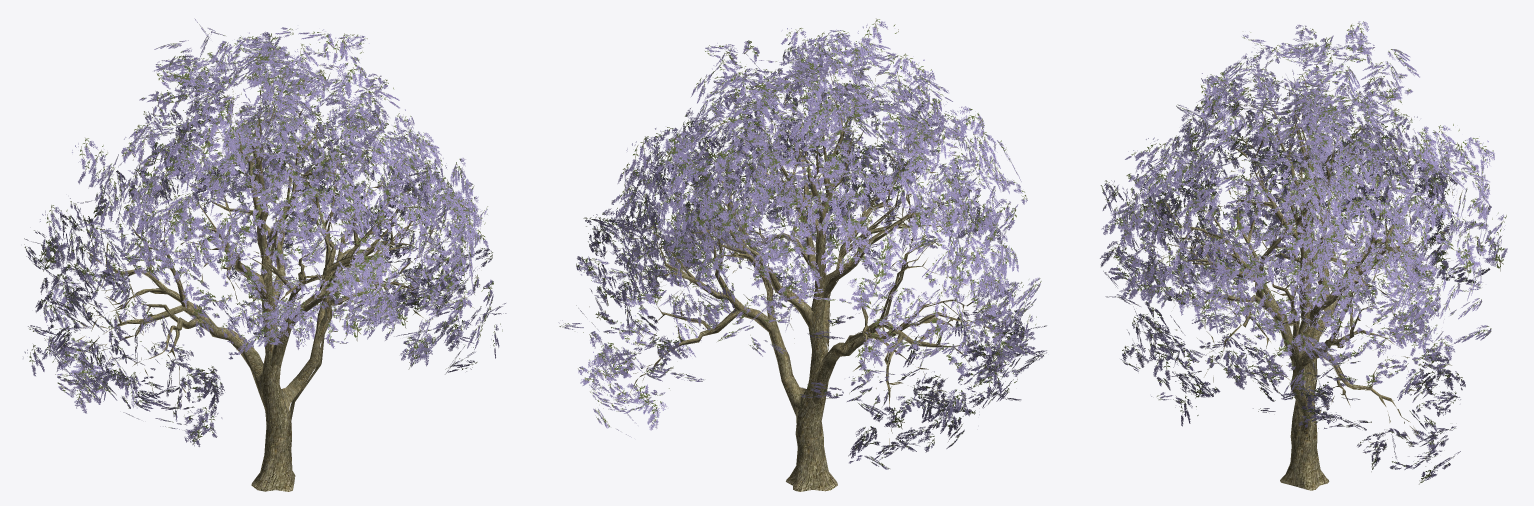
Rendered from jacaranda_bloom_a.glb.
3 renders of one model, left to right at view 1: azimuth 30°, elevation 25°; view 2: azimuth 150°, elevation 25°; view 3: azimuth 270°, elevation 25°, orthographic. The views are drawn at different scales.
Visible parts, largest first — view 1: jacaranda_bloom_a; view 2: jacaranda_bloom_a; view 3: jacaranda_bloom_a.
Part boxes in pixels (left/top/right/bottom): jacaranda_bloom_a: left=23, top=18, right=506, bottom=491; jacaranda_bloom_a: left=558, top=18, right=1046, bottom=491; jacaranda_bloom_a: left=1100, top=21, right=1507, bottom=490.
Size of the model in its own units: 14.26 by 13.66 by 12.15.
Materials: 2 (2 with a texture image).
